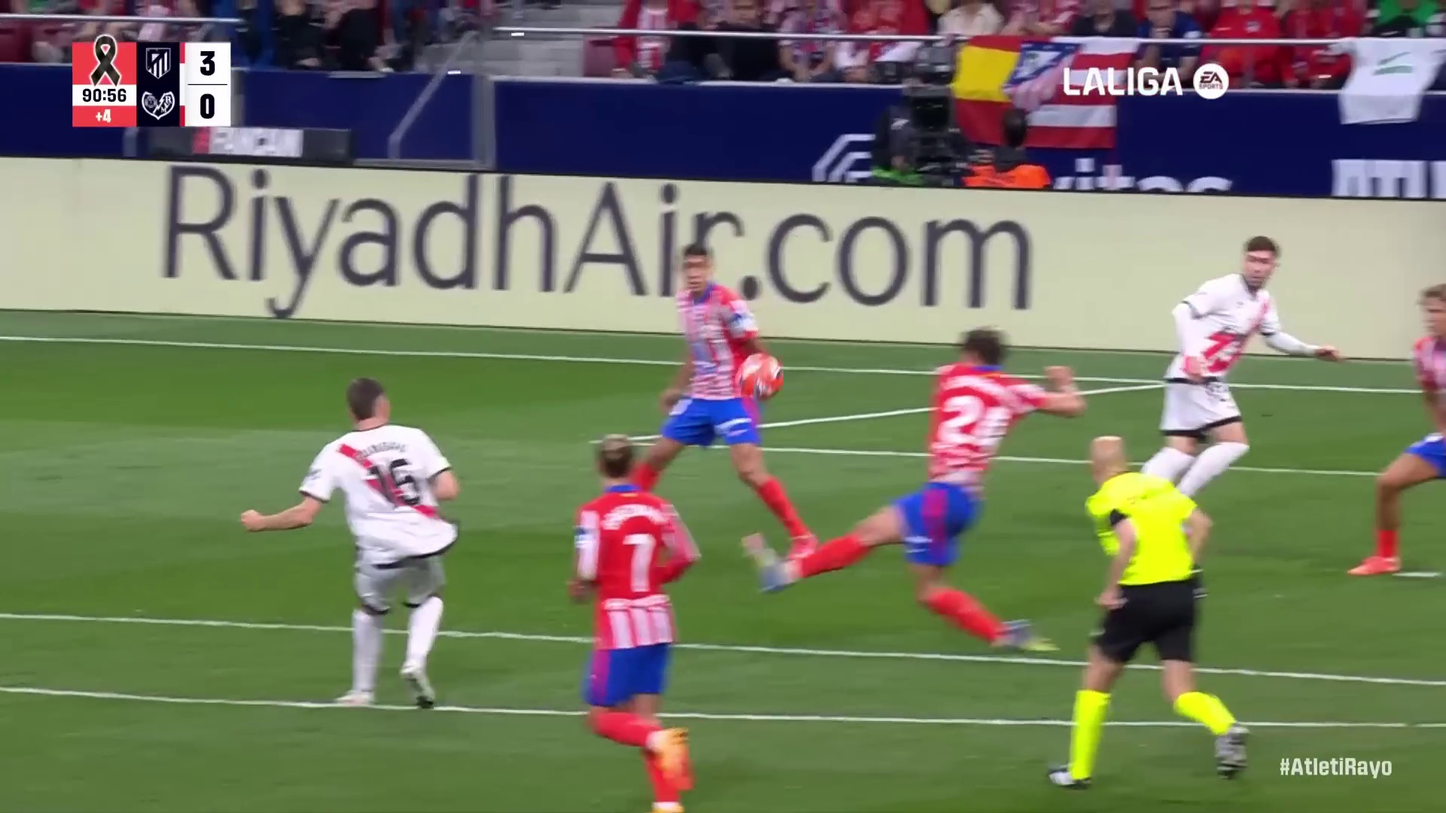ball: (729, 351, 790, 406)
player: (733, 323, 1086, 661), (236, 374, 468, 711), (630, 233, 837, 598), (1123, 235, 1354, 561), (566, 441, 711, 812), (1345, 269, 1446, 583)
referee: (1041, 427, 1265, 791)
